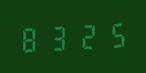eight: (18, 22, 44, 54)
five: (99, 18, 125, 50)
three: (45, 21, 71, 53)
two: (72, 20, 98, 51)
